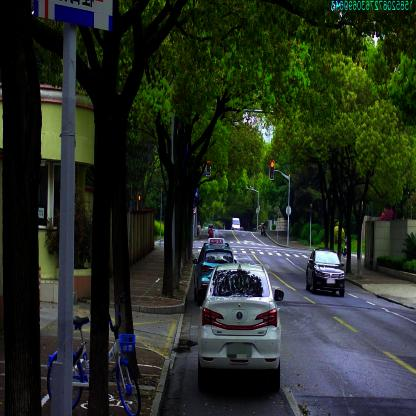traffic-light: (206, 160, 211, 176), (270, 160, 274, 178)
